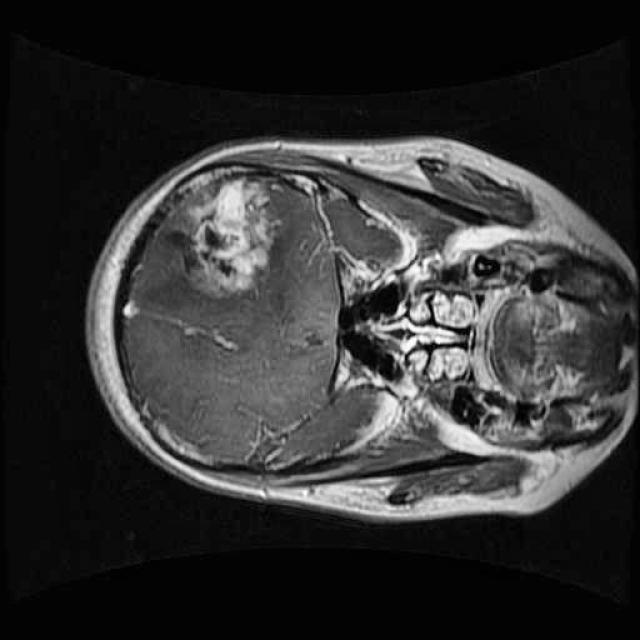Non-Tumor: (156, 154, 291, 310)
